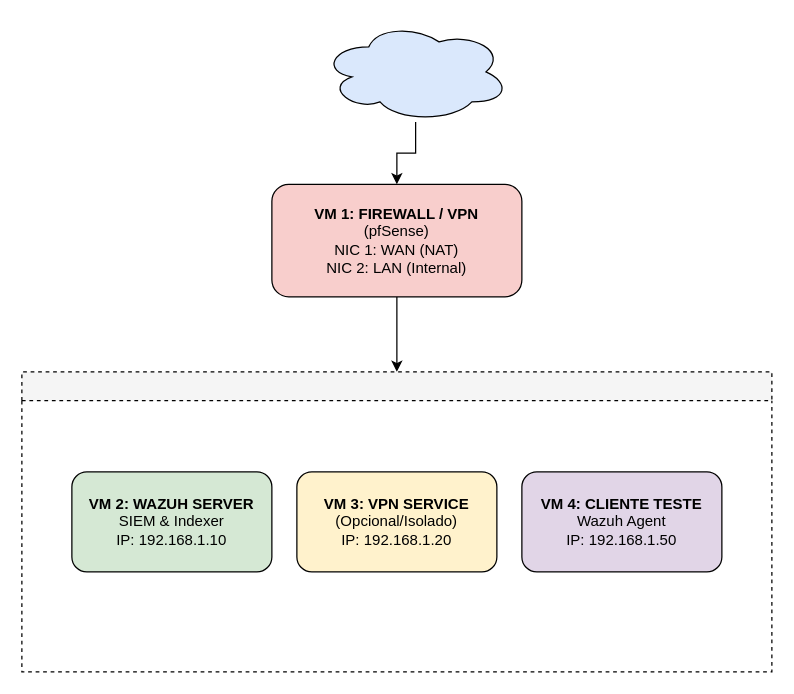
Image size: 794x694. Some labels were removed from this diagram. Each missing label, with the box of its shape:
INTERNET (WAN): (321, 21, 509, 122)
REDE INTERNA (LAB): (21, 371, 772, 672)
